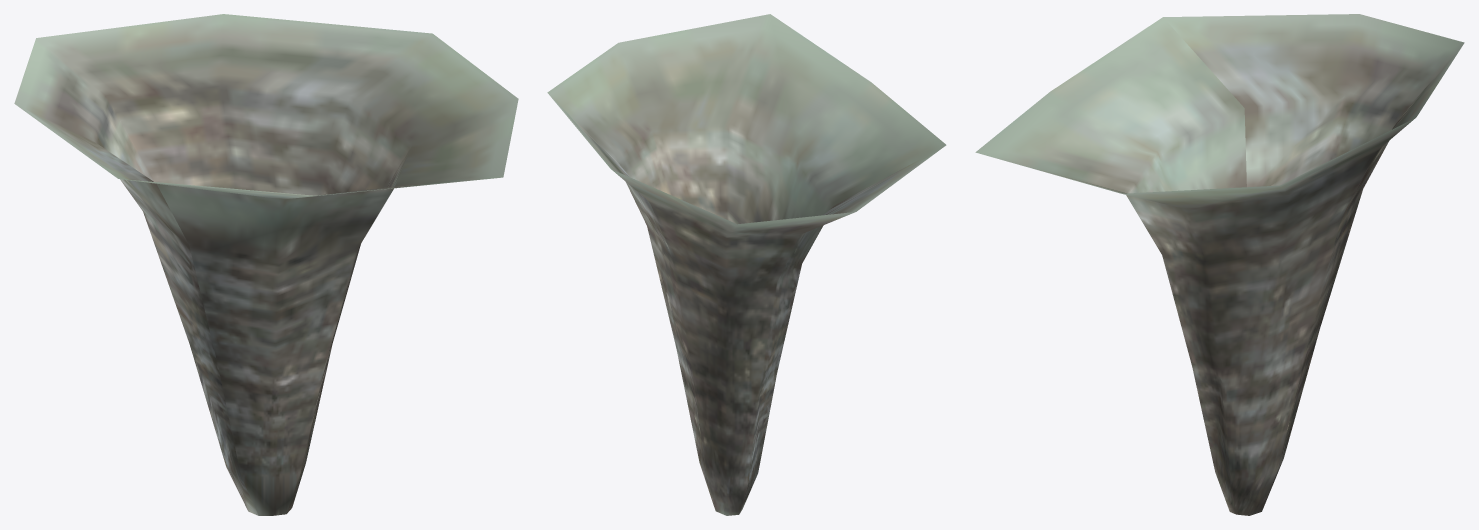
The model's file is TROLLHOLE02_PS-SECRETSTALAG45.fbx.
3 renders of one model, left to right at view 1: azimuth 30°, elevation 25°; view 2: azimuth 150°, elevation 25°; view 3: azimuth 270°, elevation 25°, orthographic. The views are drawn at different scales.
Parts seen in each view (by area): view 1: TROLLHOLE02_PS-SECRETSTALAG45; view 2: TROLLHOLE02_PS-SECRETSTALAG45; view 3: TROLLHOLE02_PS-SECRETSTALAG45.
Boxes of the visible parts, x1,y1,x2,y2 form: TROLLHOLE02_PS-SECRETSTALAG45: (14,14,518,515); TROLLHOLE02_PS-SECRETSTALAG45: (547,14,946,515); TROLLHOLE02_PS-SECRETSTALAG45: (975,14,1464,515).
Size of the model in its own units: 21322 by 22742 by 24346.
Materials: 1 (1 with a texture image).
